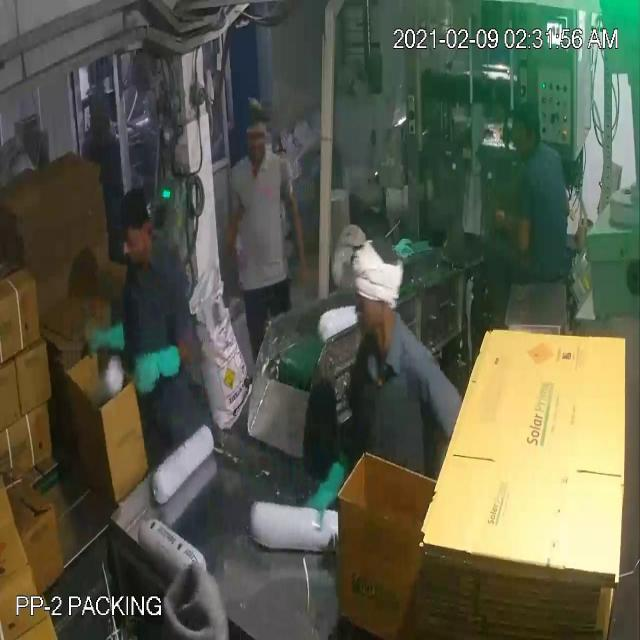Gloves: (31, 54, 506, 489)
